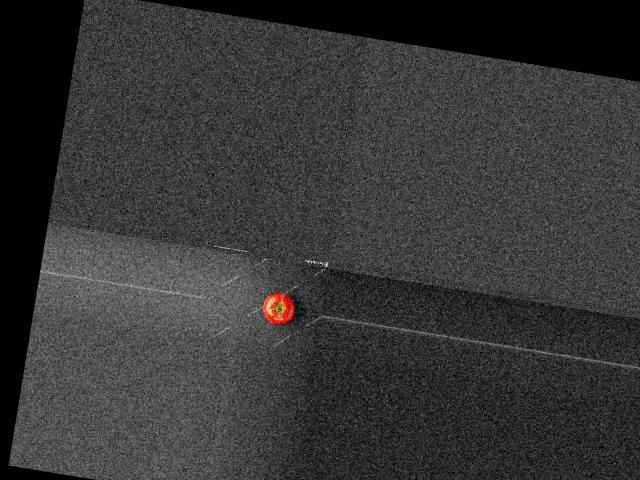tomato: (259, 289, 296, 326)
